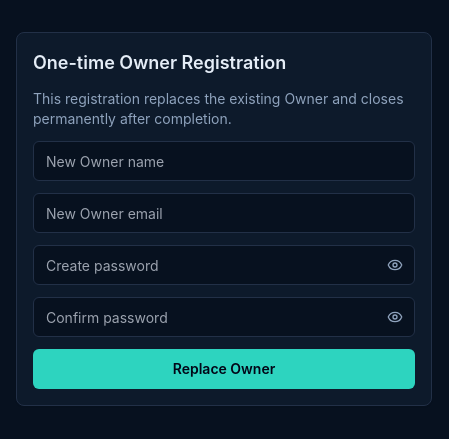
Test case: One-time Owner Registration › rejects mismatched passwords without calling the API
(page scrolled)
Expected: the heading "One-time Owner Registration" is shown, [33,52,286,73]
Type "replacement-password" into the password field with placeholder "Create password".
click(224, 265); type("replacement-password")  # box [33,245,415,285]
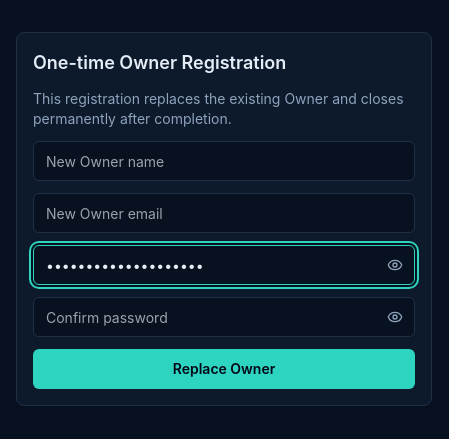
Type "different-password" into the password field with placeholder "Confirm password".
click(224, 317); type("different-password")  # box [33,297,415,337]
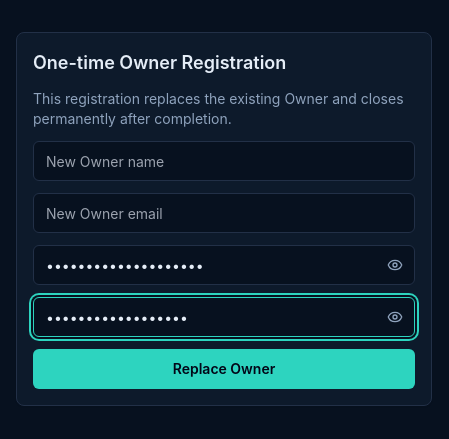
Click the button "Replace Owner".
click(224, 369)  # box [33,349,415,389]
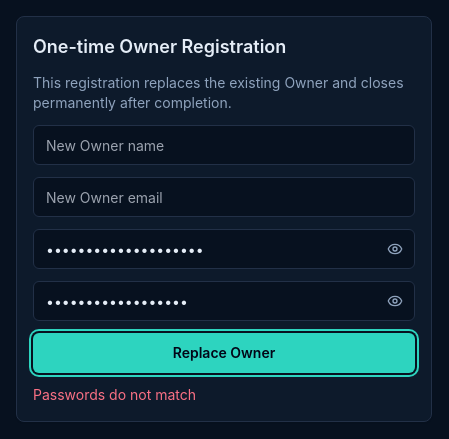
Now the text "Passwords do not match" is shown, box [33,386,196,403]
